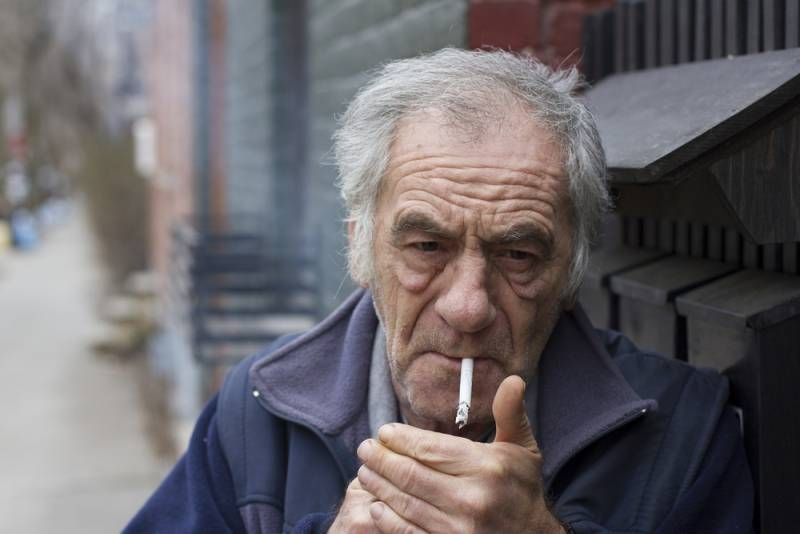cigarette: (448, 344, 481, 440)
